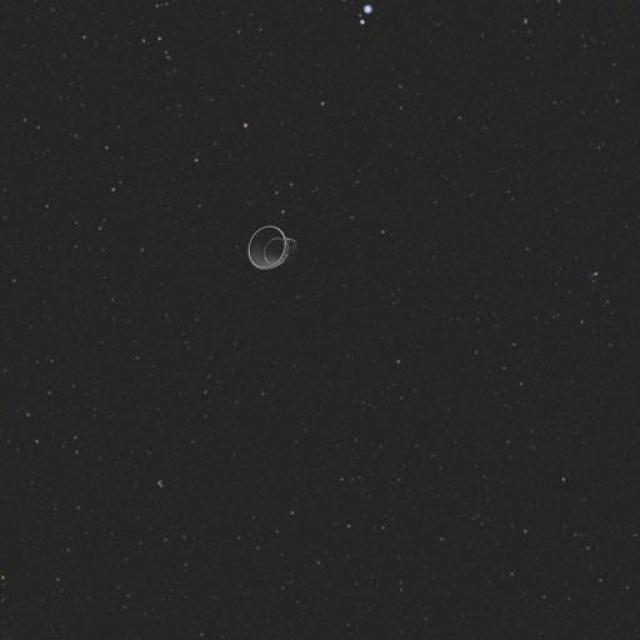debris: (230, 203, 310, 280)
